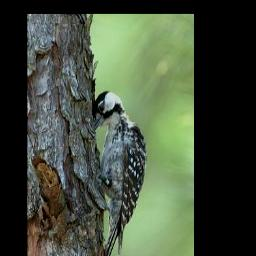Woodpecker: (92, 91, 149, 256)
